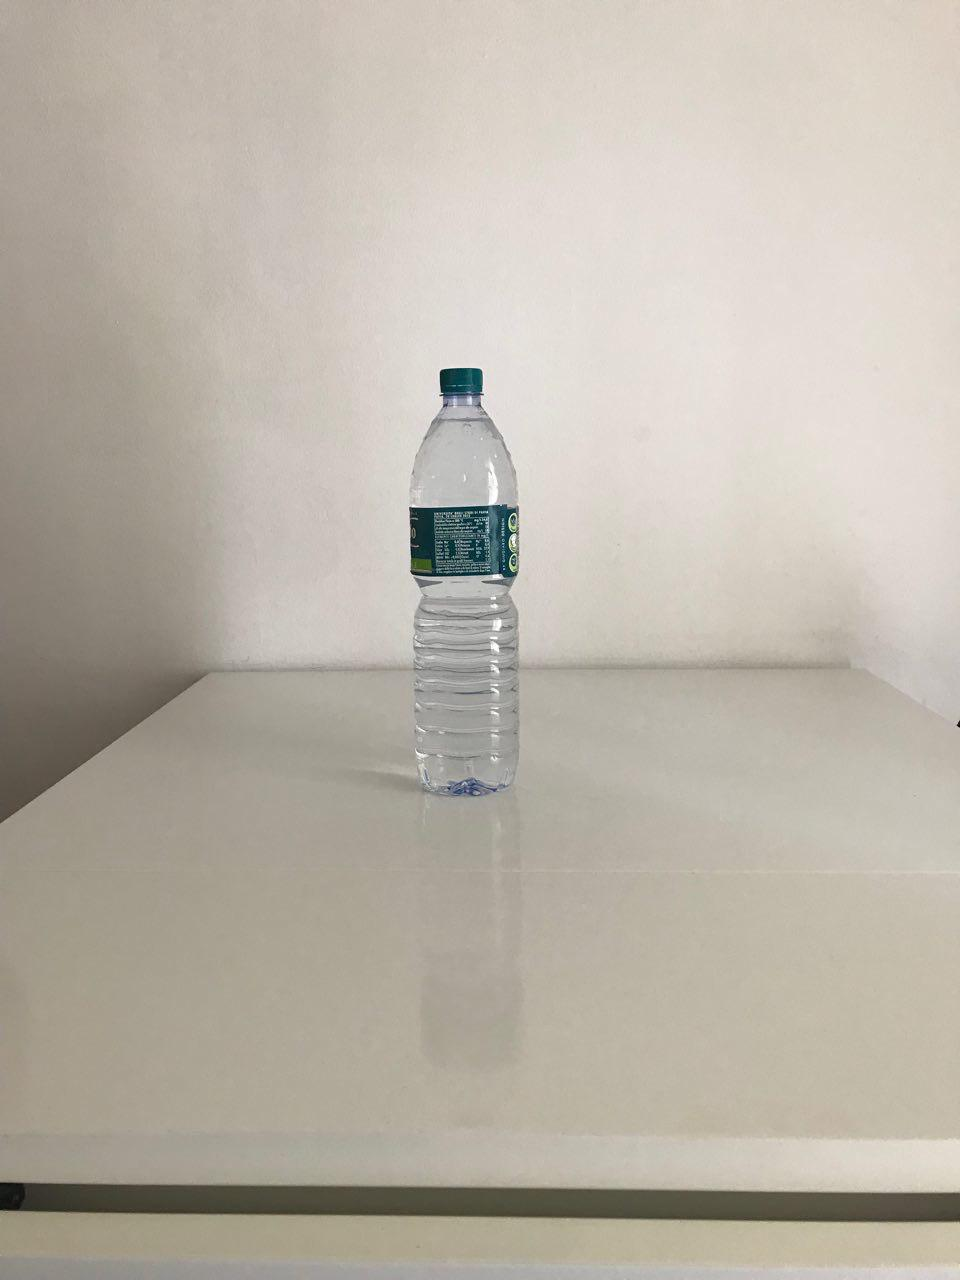san_bernardo: (407, 366, 523, 800)
